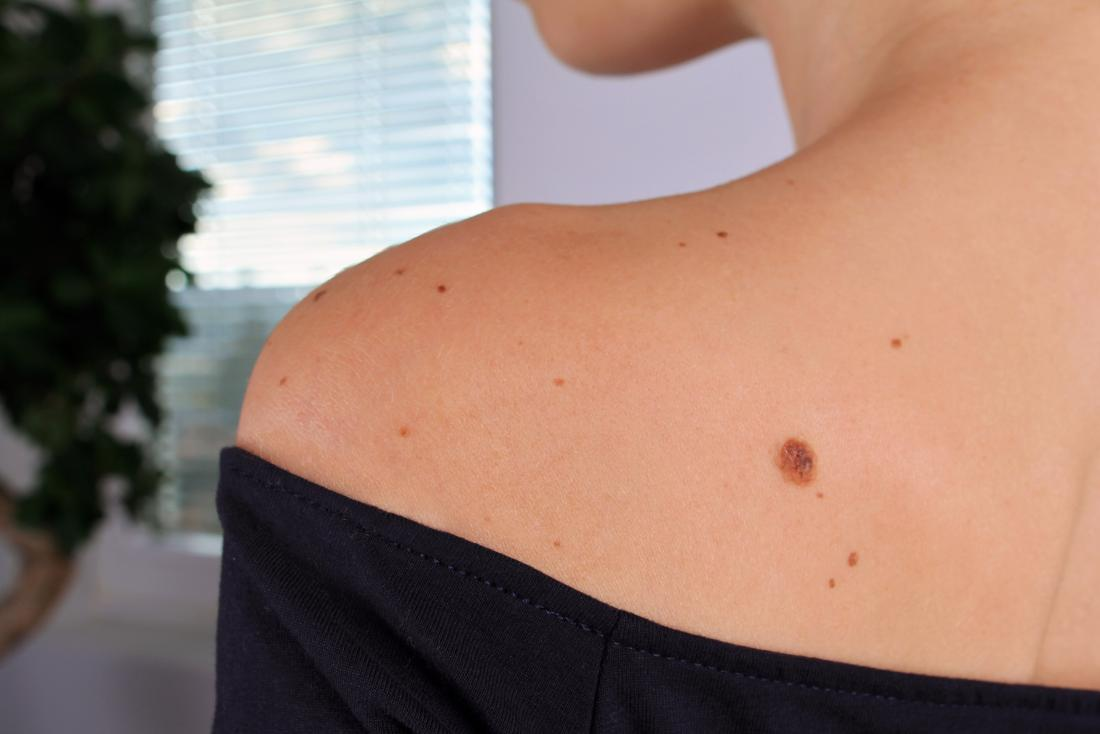mole: (538, 368, 572, 400)
